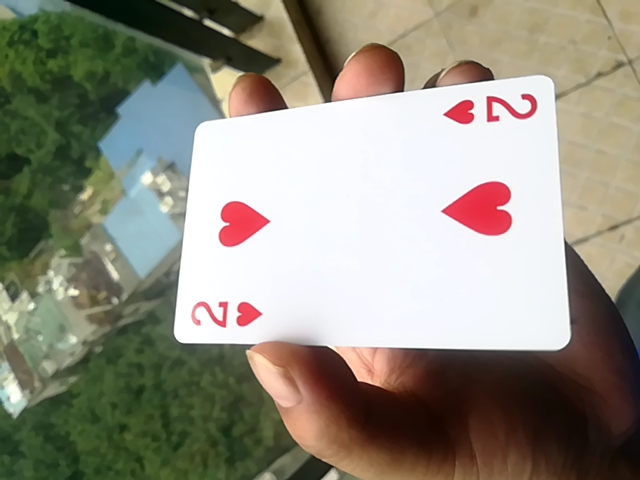hx 2: (169, 74, 571, 361)
